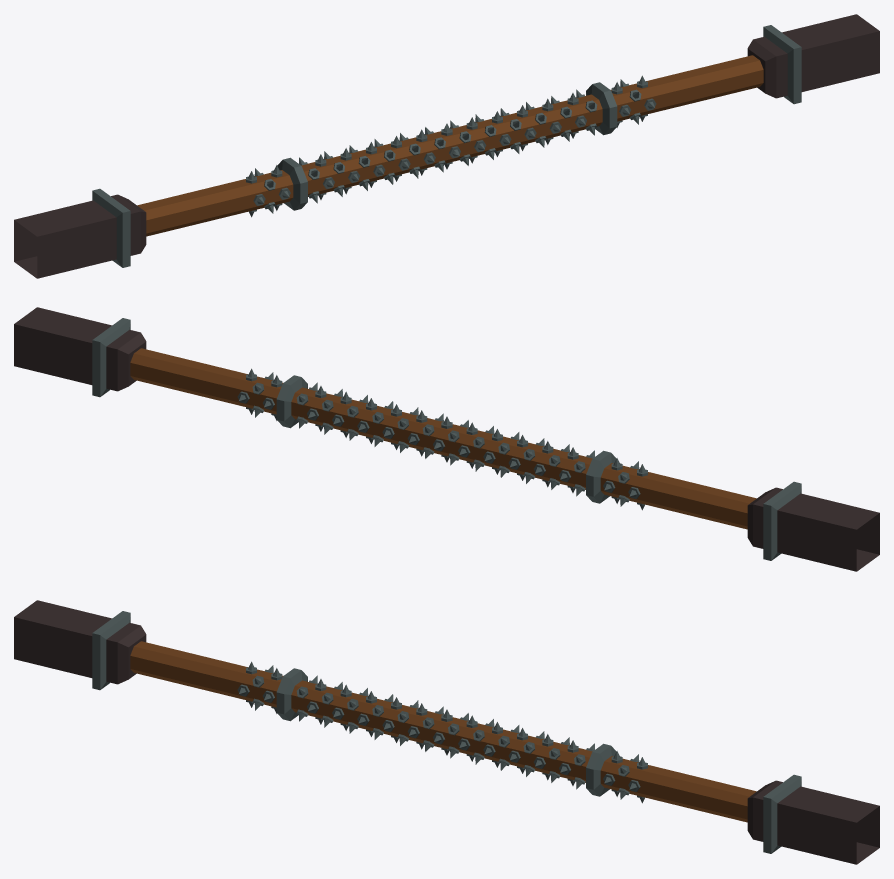
Rendered from Pillar.FBX.
3 views of the same model, one above another, from view 1: azimuth 30°, elevation 25°; view 2: azimuth 150°, elevation 25°; view 3: azimuth 330°, elevation 25° (orthographic).
Visible parts, largest first — view 1: Pole; view 2: Pole; view 3: Pole.
Boxes of the visible parts, x1,y1,x2,y2 form: Pole: (14,14,879,278); Pole: (14,307,879,571); Pole: (14,600,879,864).
Bounding box in the file's own units: 3343 × 209 × 209.
